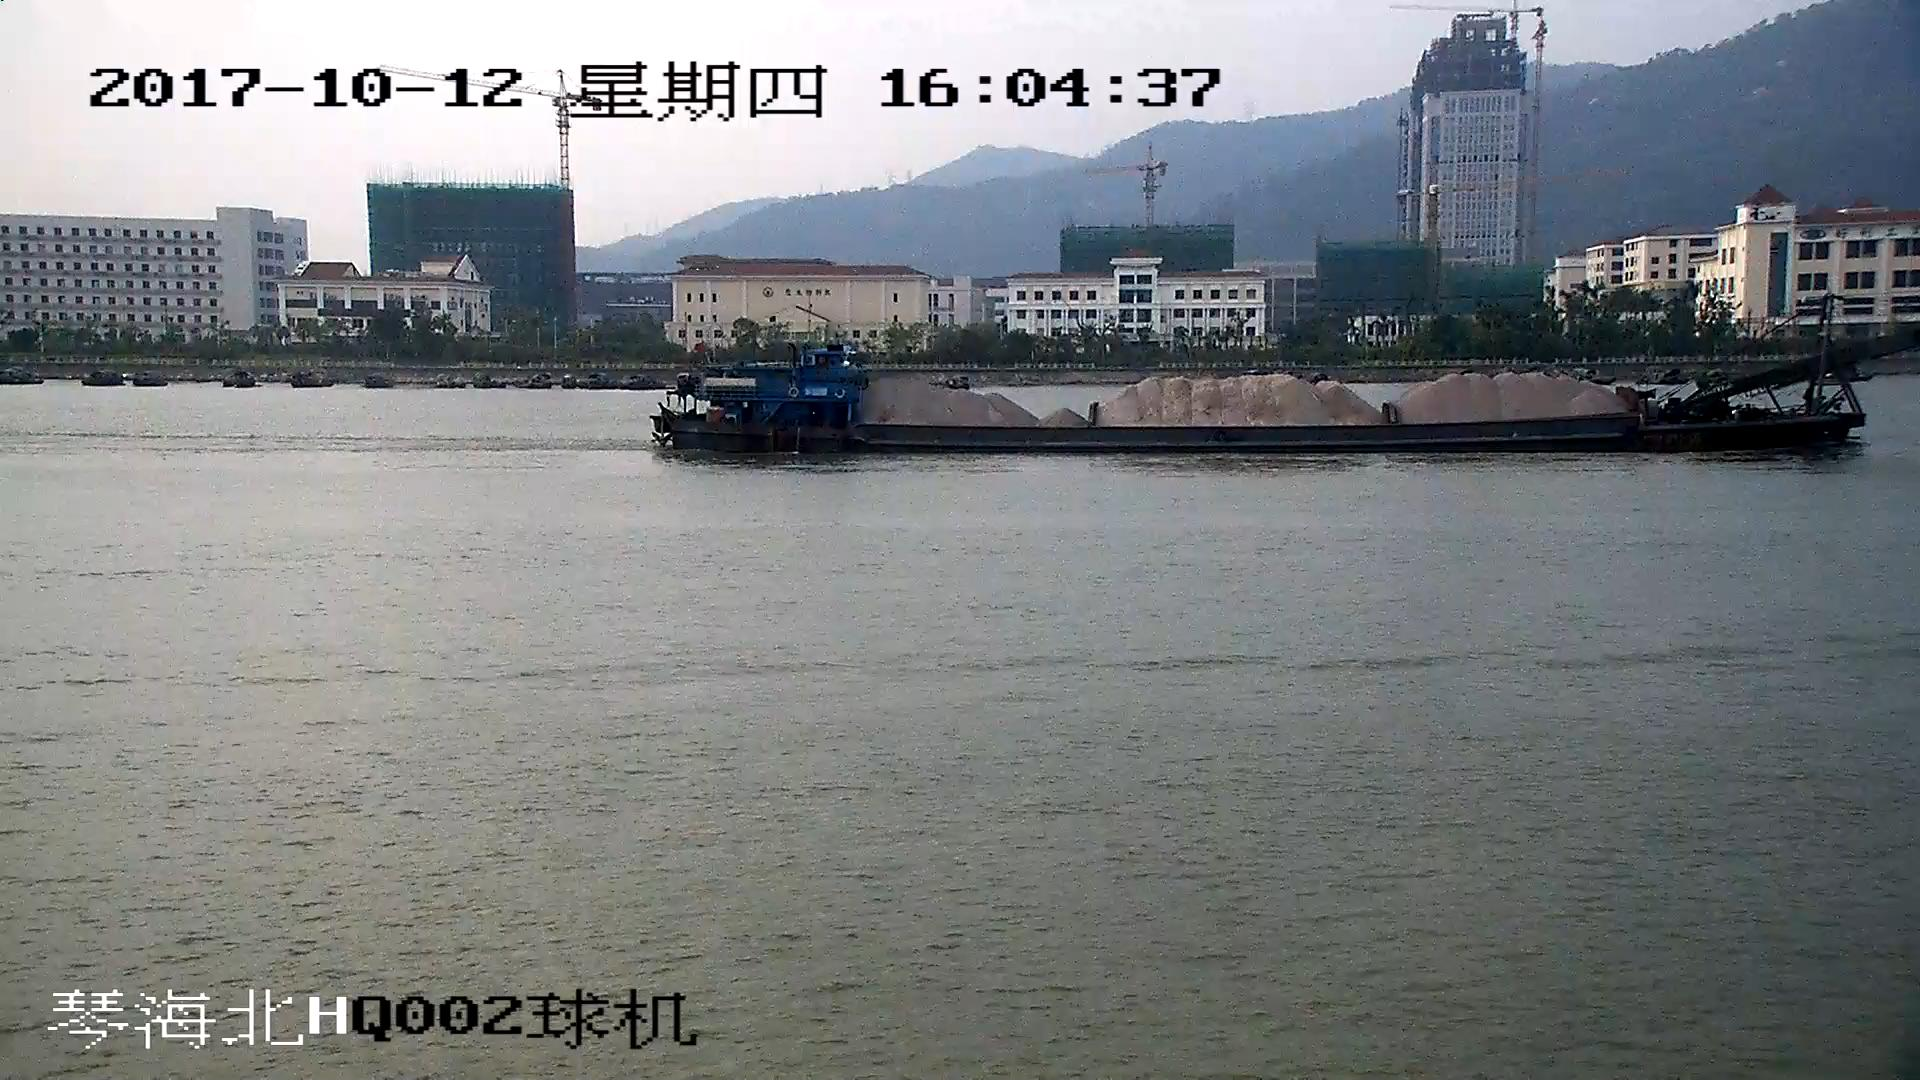ore carrier: (660, 299, 1920, 454)
